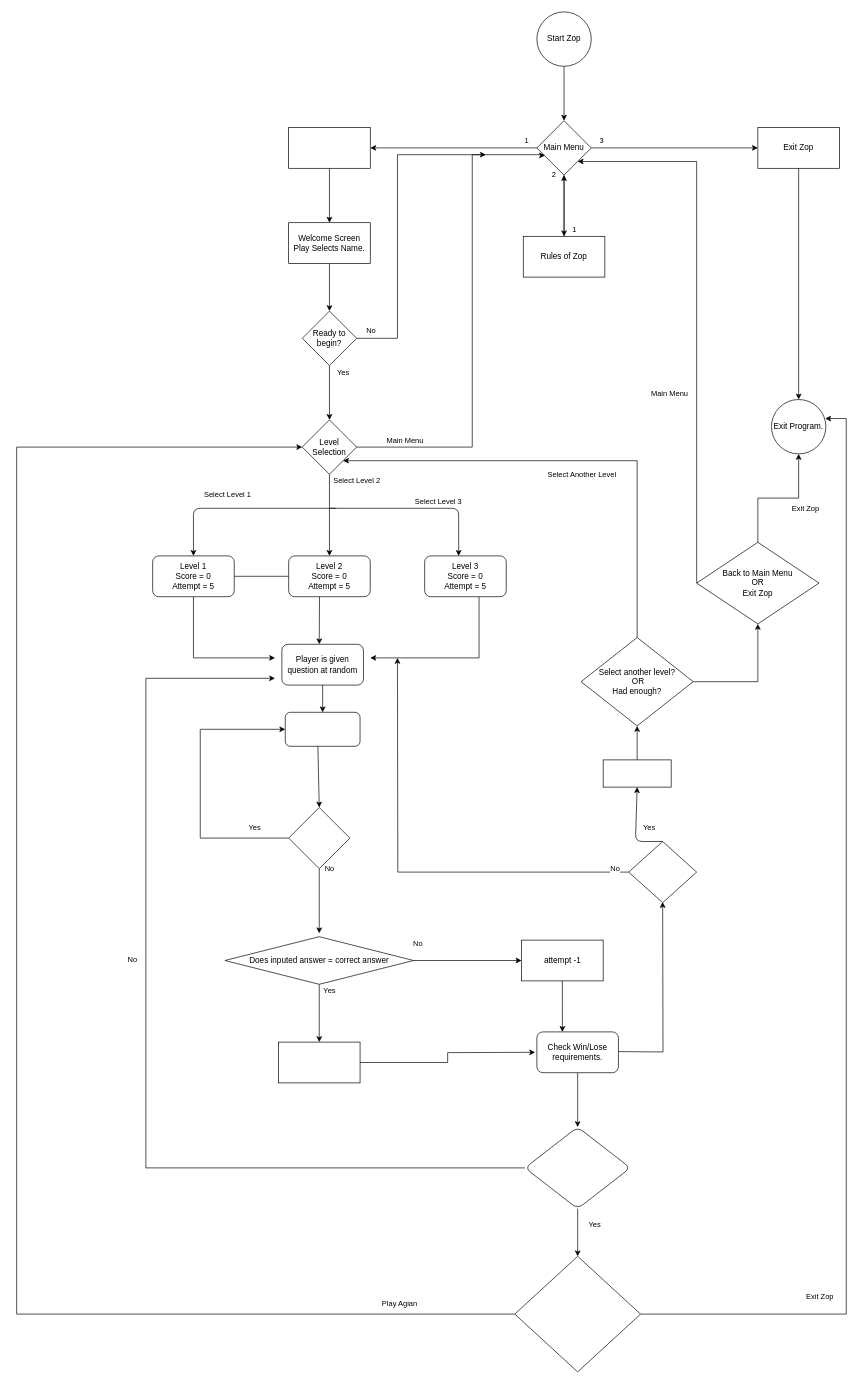
The diagram is 864 pixels wide and 1384 high, and some of its shapes have lost their labels. The centre of each missing label's shape, as x and y in pixels:
"Beat Level" belongs at (636,773).
"Does Attempt = 0" belongs at (577,1167).
"Does score = 10" belongs at (662,872).
"Game Over Play again OR Exit Zop" belongs at (577,1314).
"Invalid Input?" belongs at (319,838).
"Player inputs answer." belongs at (322,729).
"score + 1" belongs at (319,1062).
"Start New Game" belongs at (329,147).
